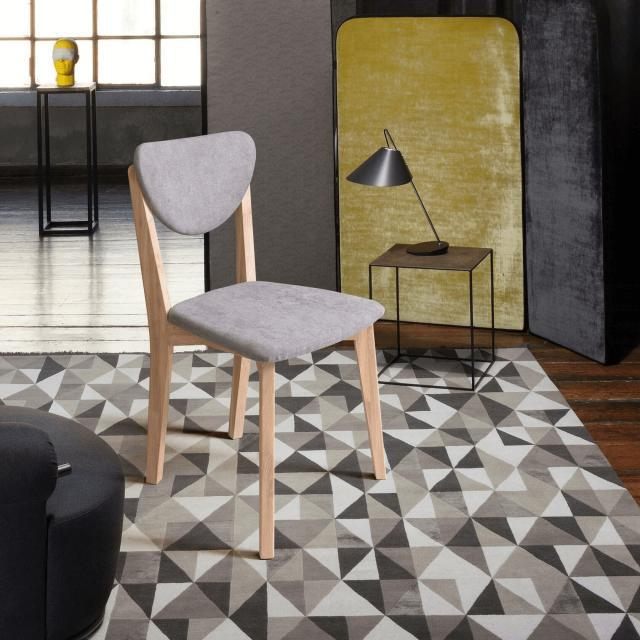chair: (123, 125, 392, 561), (114, 130, 366, 353)
